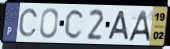2: (87, 8, 105, 41)
A: (127, 9, 152, 43), (107, 10, 130, 41)
C: (63, 8, 86, 40), (18, 8, 39, 38)
O: (38, 7, 60, 40)
